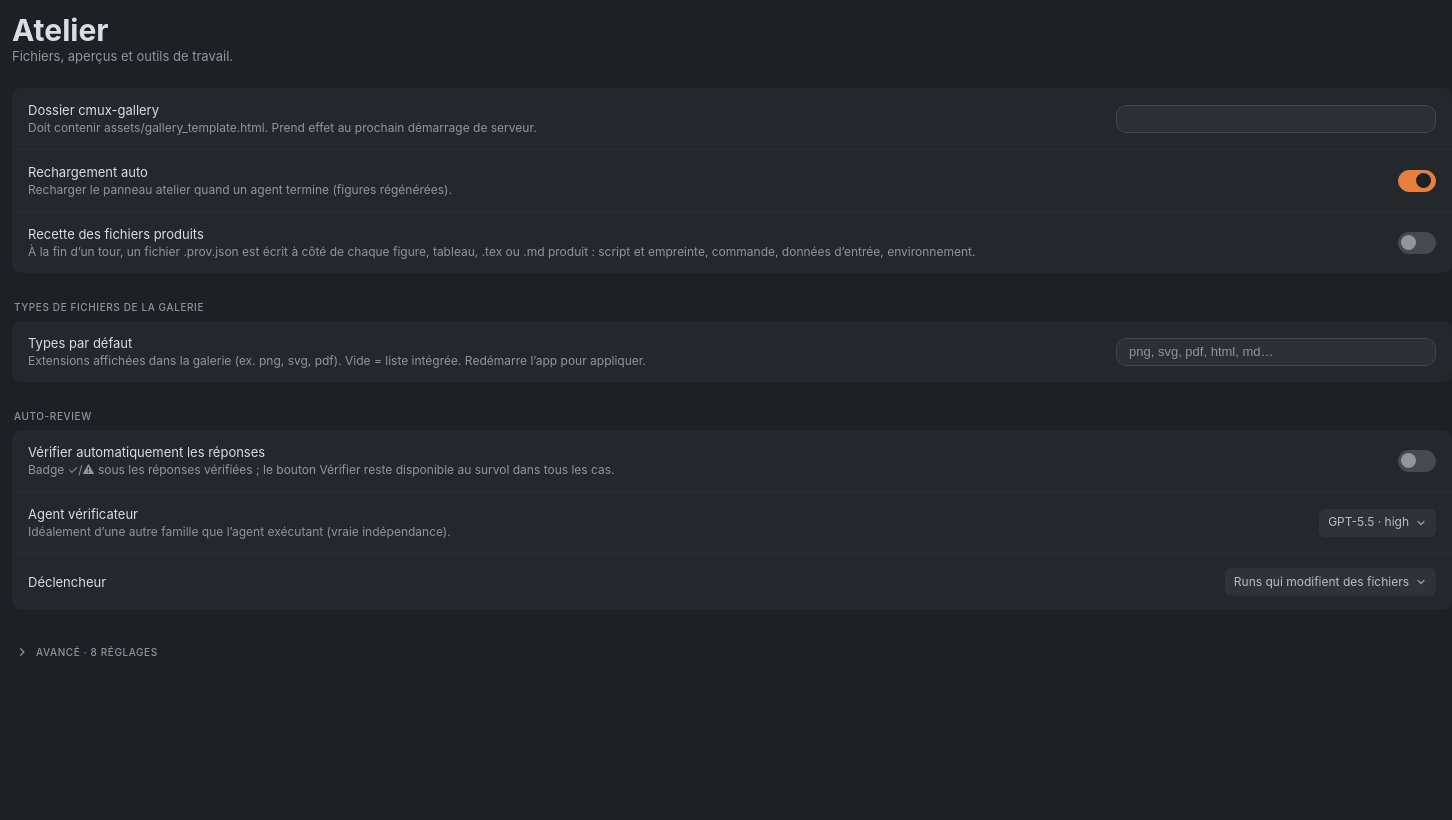
it: Section Atelier › AppSnap explique le vrai raccourci global et sa destination locale
Step 1. Click the button "Avancé · 8 réglages" → (87, 652), box [12,638,162,666]
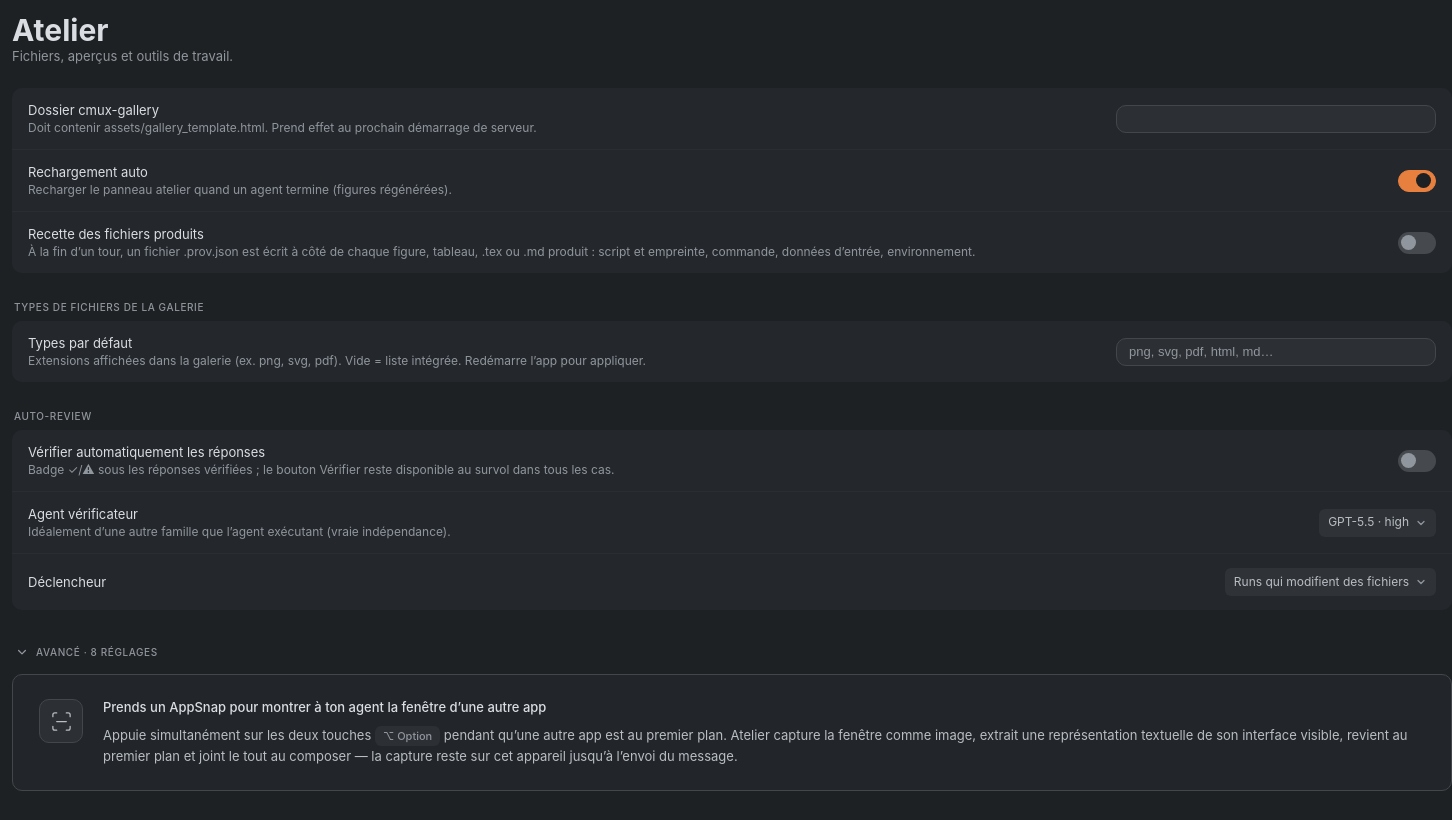
Now the text "AppSnap" is shown, box [103,699,546,715]
